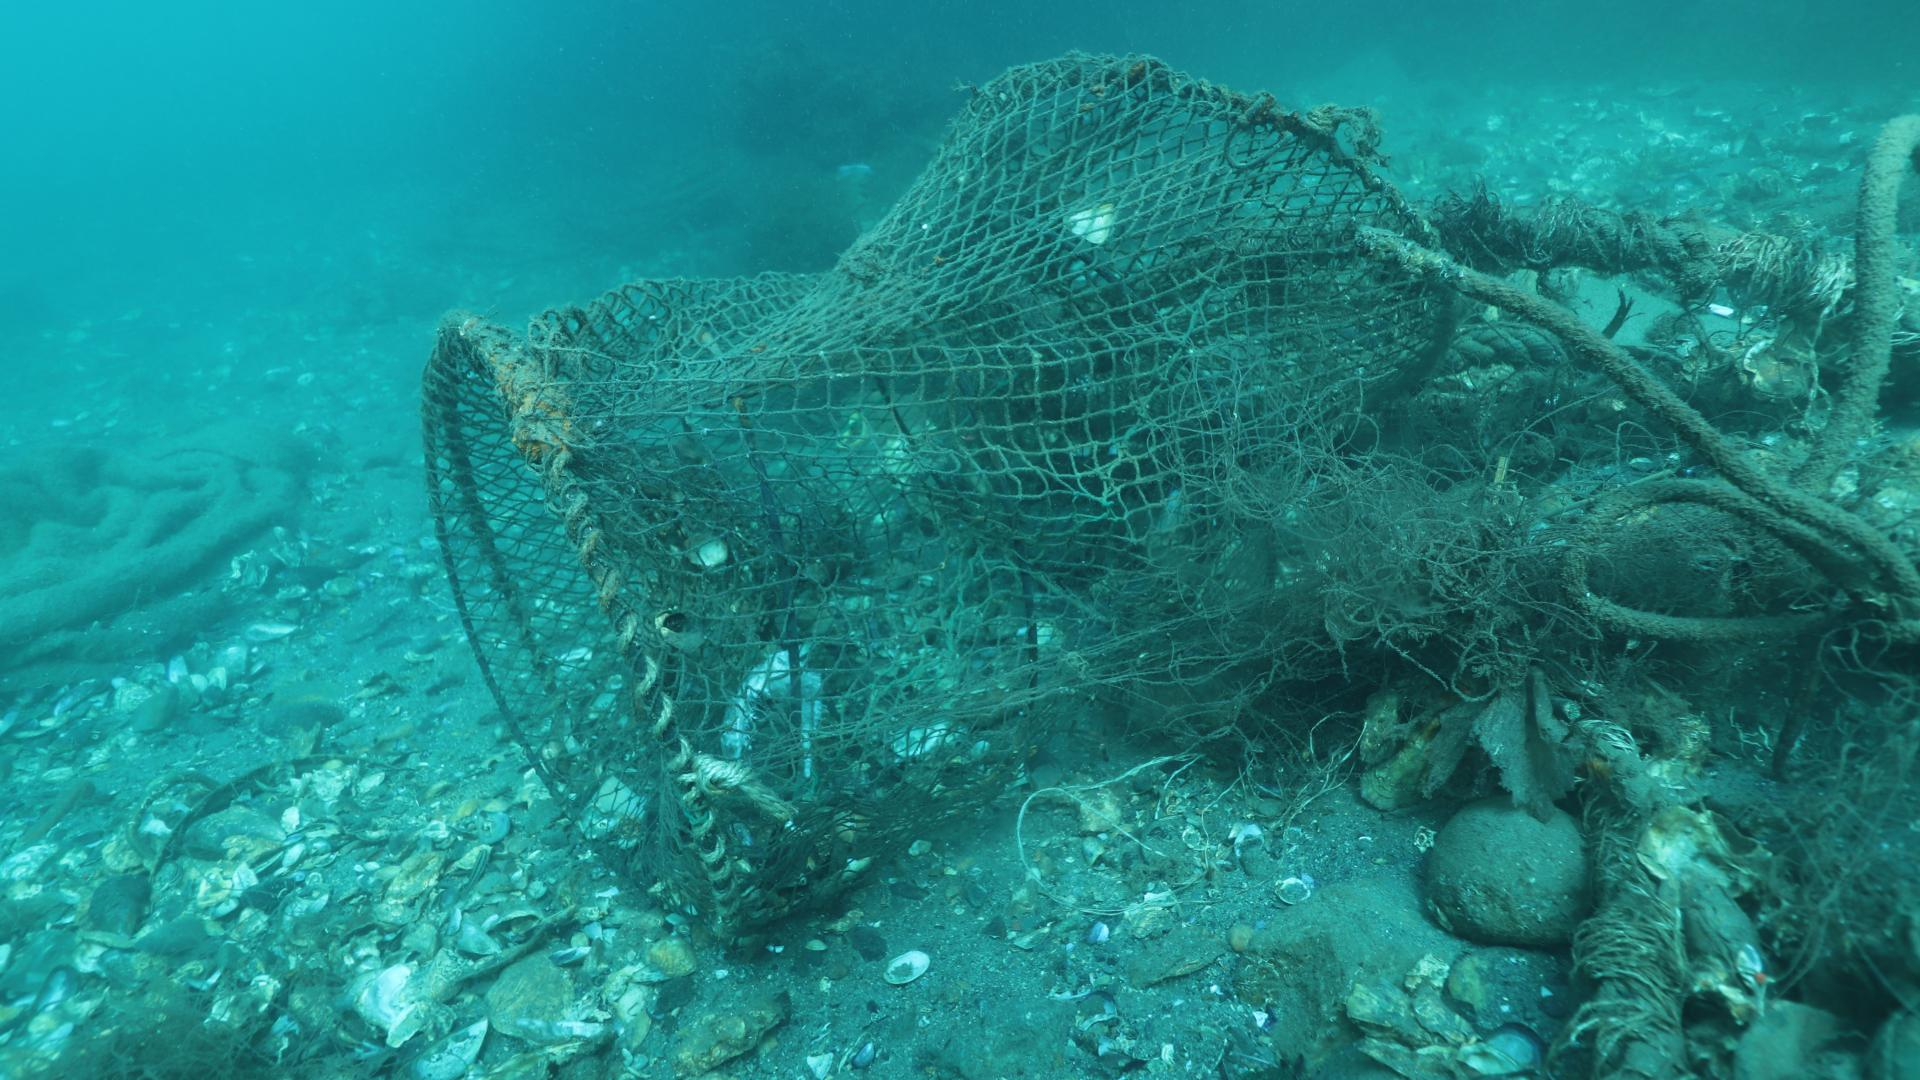bundle of ropes: (1302, 102, 1375, 140)
rope: (1433, 324, 1567, 368)
spring fish trap: (422, 50, 1458, 935)
